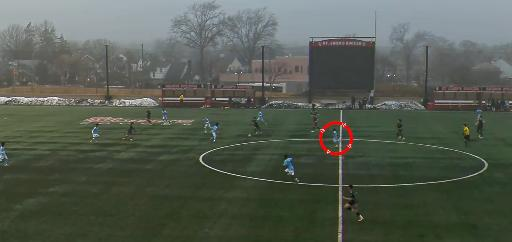highlight_overlay: (318, 120, 353, 160)
